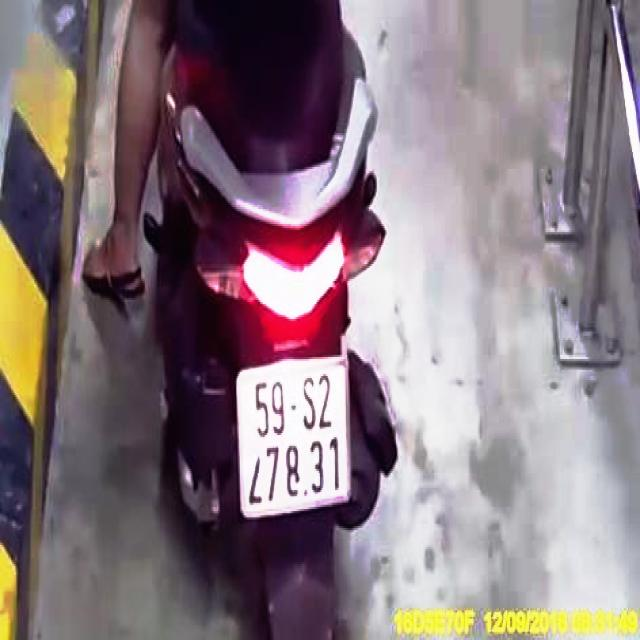license_plate: (243, 362, 350, 514)
